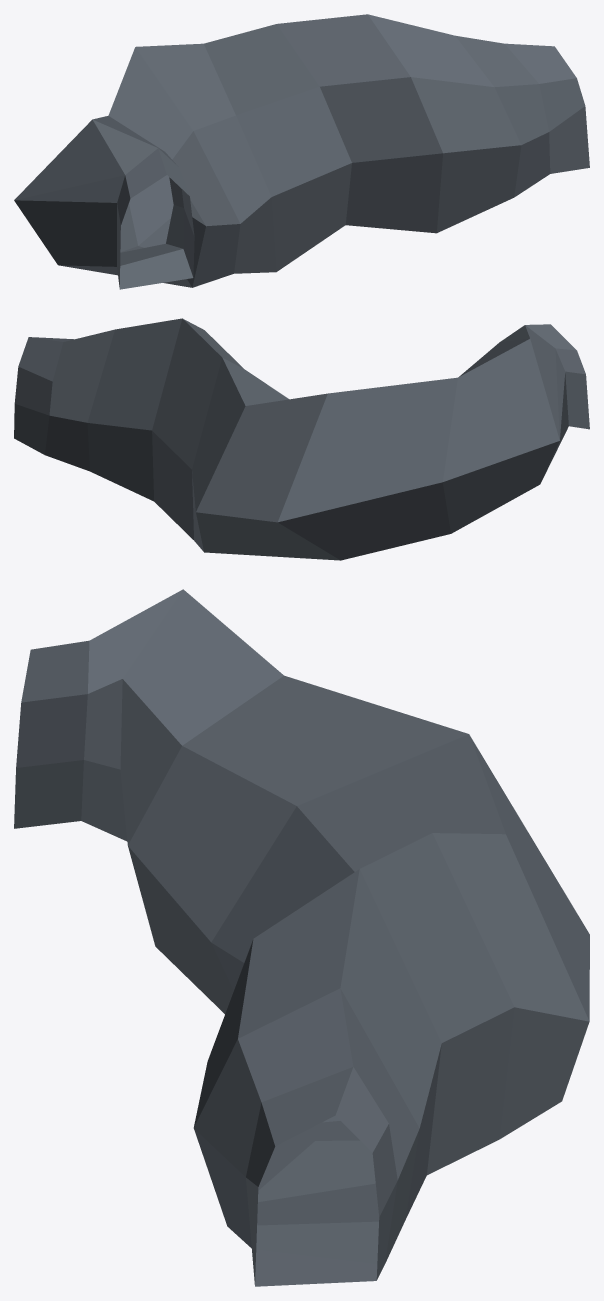
Rendered from Tunnel-C07.fbx.
The picture shows the model from 3 angles, top to bottom: view 1: azimuth 30°, elevation 25°; view 2: azimuth 150°, elevation 25°; view 3: azimuth 270°, elevation 25°; orthographic projection. The views are drawn at different scales.
Visible parts, largest first — view 1: Tunnel-C07; view 2: Tunnel-C07; view 3: Tunnel-C07.
Part boxes in pixels (bbox=[...]): Tunnel-C07: bbox=[14, 14, 589, 289]; Tunnel-C07: bbox=[14, 318, 589, 560]; Tunnel-C07: bbox=[14, 589, 589, 1286].
Bounding box in the file's own units: 796 × 1439 × 559.
